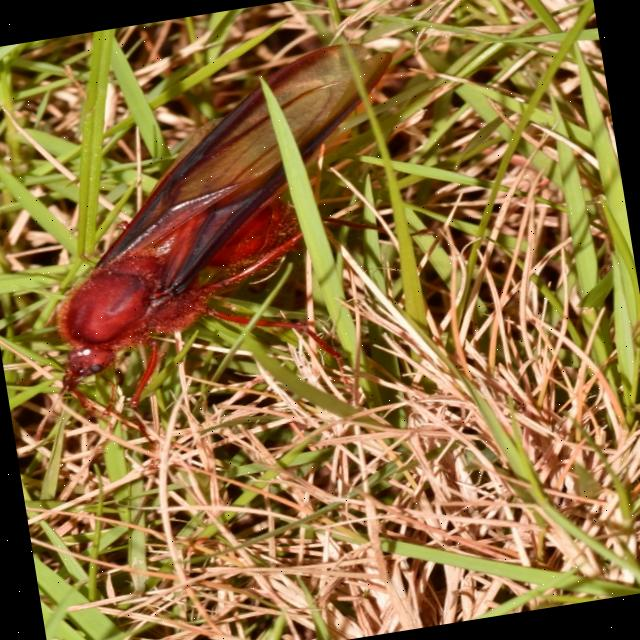Alive-Male-Alate: (0, 31, 449, 435)
